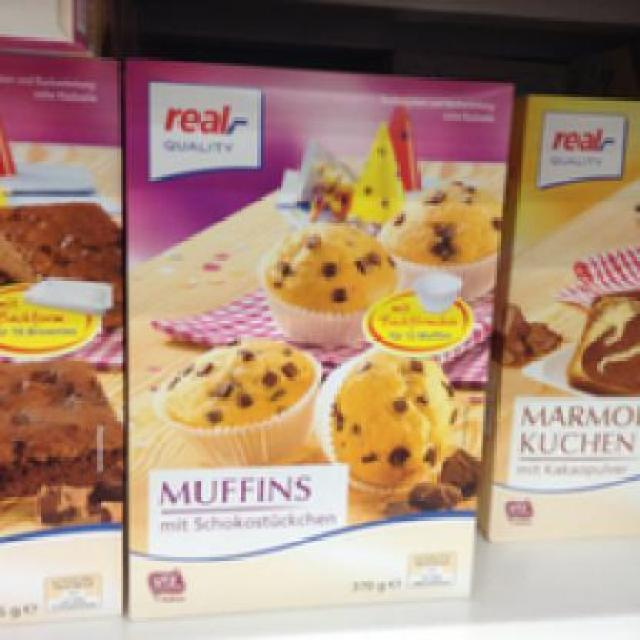Cake: (119, 43, 515, 626), (485, 63, 638, 543)
